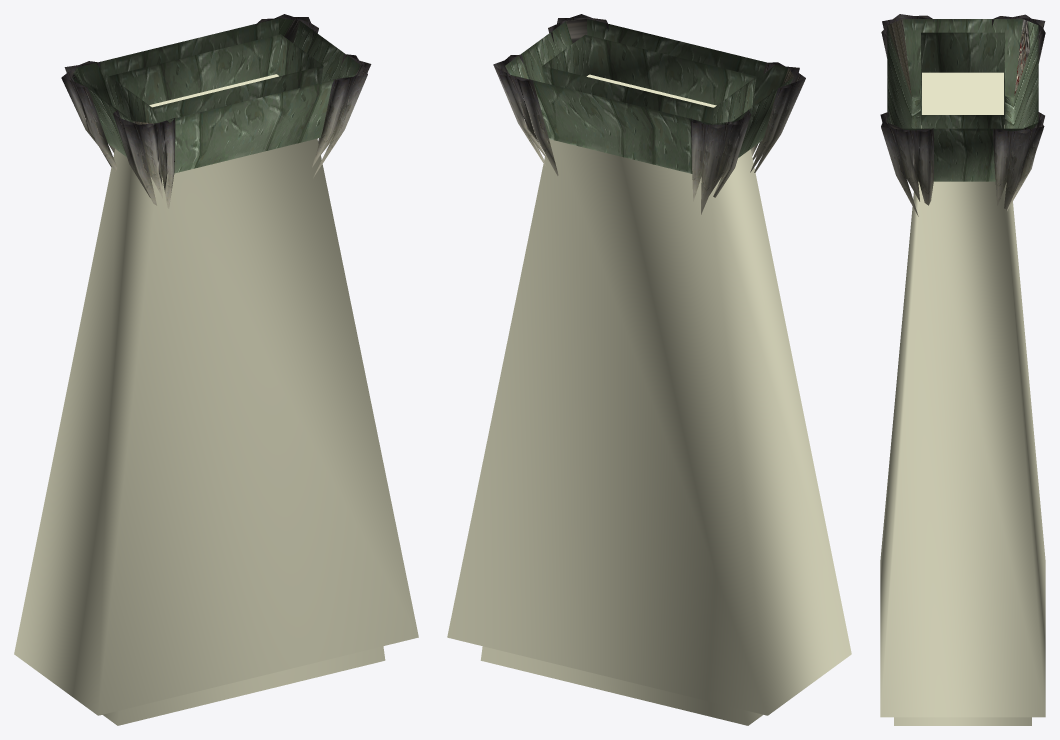
The model's file is undercityskylight01.obj.
The picture shows the model from 3 angles, left to right: view 1: azimuth 30°, elevation 25°; view 2: azimuth 150°, elevation 25°; view 3: azimuth 270°, elevation 25°; orthographic projection.
Visible parts, largest first — view 1: UNDERCITYSKYLIGHT011, UNDERCITYSKYLIGHT010; view 2: UNDERCITYSKYLIGHT011, UNDERCITYSKYLIGHT010; view 3: UNDERCITYSKYLIGHT011, UNDERCITYSKYLIGHT010.
Boxes of the visible parts, left/top/right/bottom form: UNDERCITYSKYLIGHT011: left=14, top=74, right=418, bottom=725; UNDERCITYSKYLIGHT010: left=61, top=14, right=371, bottom=208; UNDERCITYSKYLIGHT011: left=447, top=74, right=851, bottom=725; UNDERCITYSKYLIGHT010: left=493, top=14, right=805, bottom=214; UNDERCITYSKYLIGHT011: left=880, top=72, right=1045, bottom=725; UNDERCITYSKYLIGHT010: left=880, top=14, right=1045, bottom=216.
Size of the model in its own units: 34.76 by 61.79 by 15.78.
Materials: 2 (2 with a texture image).
